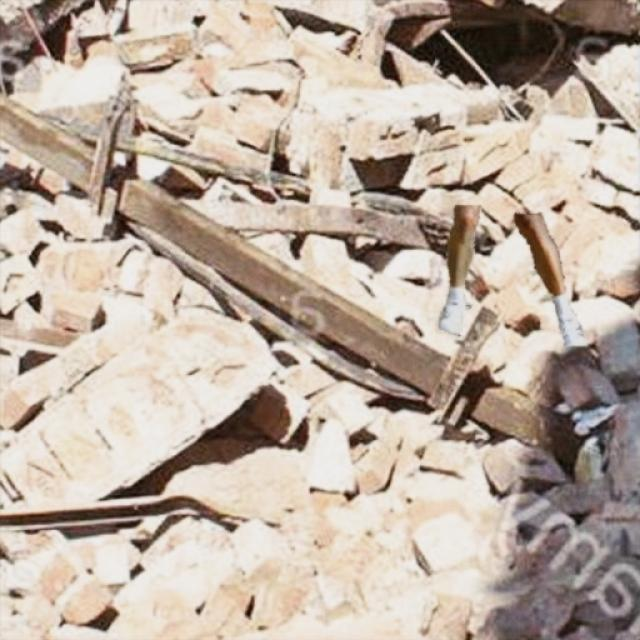Person in Rubble: (439, 205, 589, 345)
